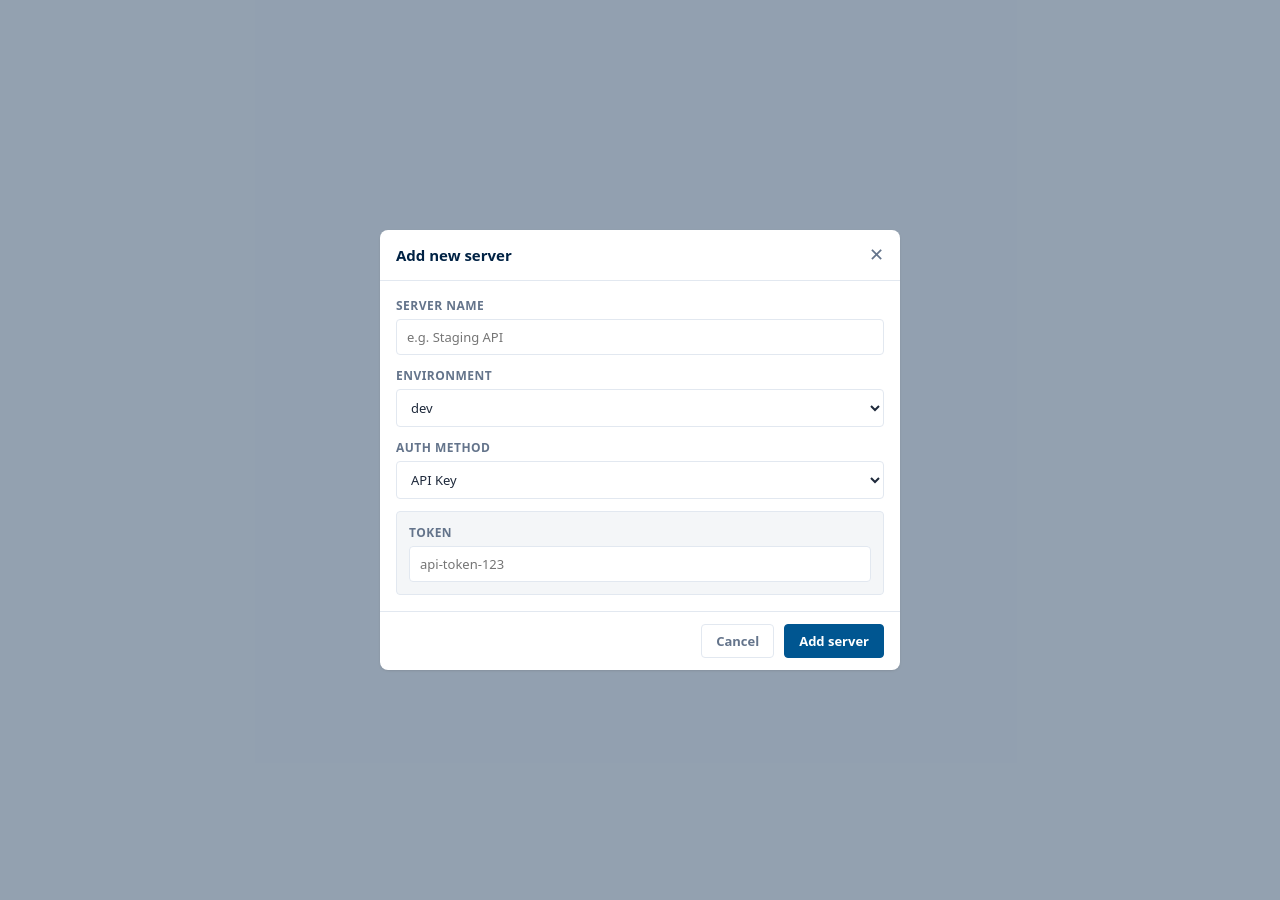
Test case: AddServerModal › swaps dynamic credential fields when the auth type changes
Select "SSH" in the dropdown with test id "auth-type": (640, 480) left=396, top=461, right=884, bottom=499
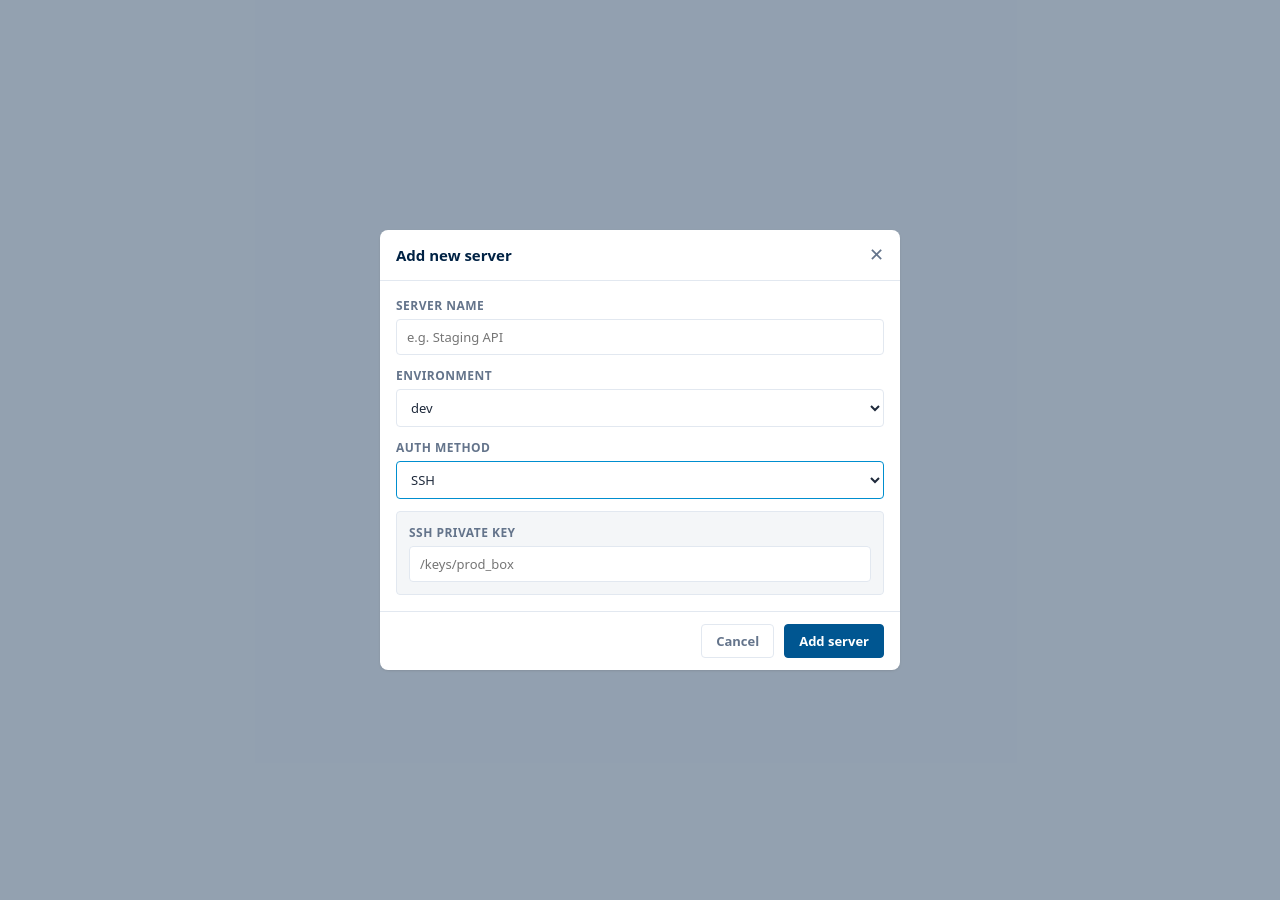
Expected: the field with placeholder "/keys/prod_box" is shown, left=409, top=546, right=871, bottom=582
